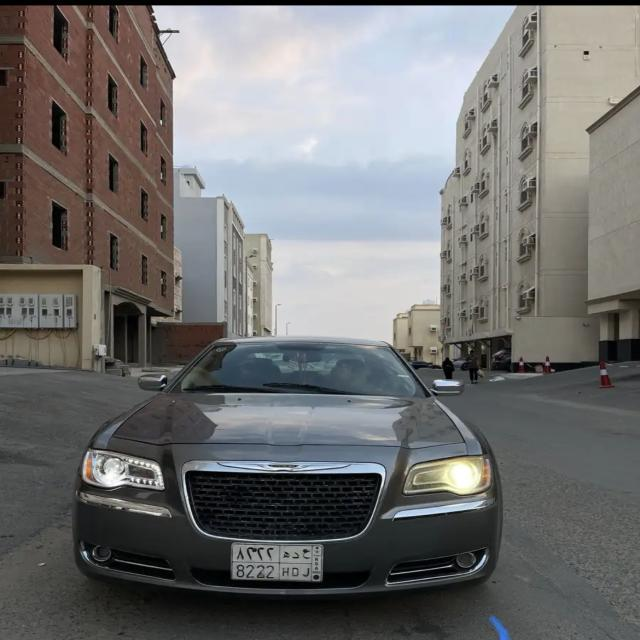license_plate: (230, 541, 323, 584)
